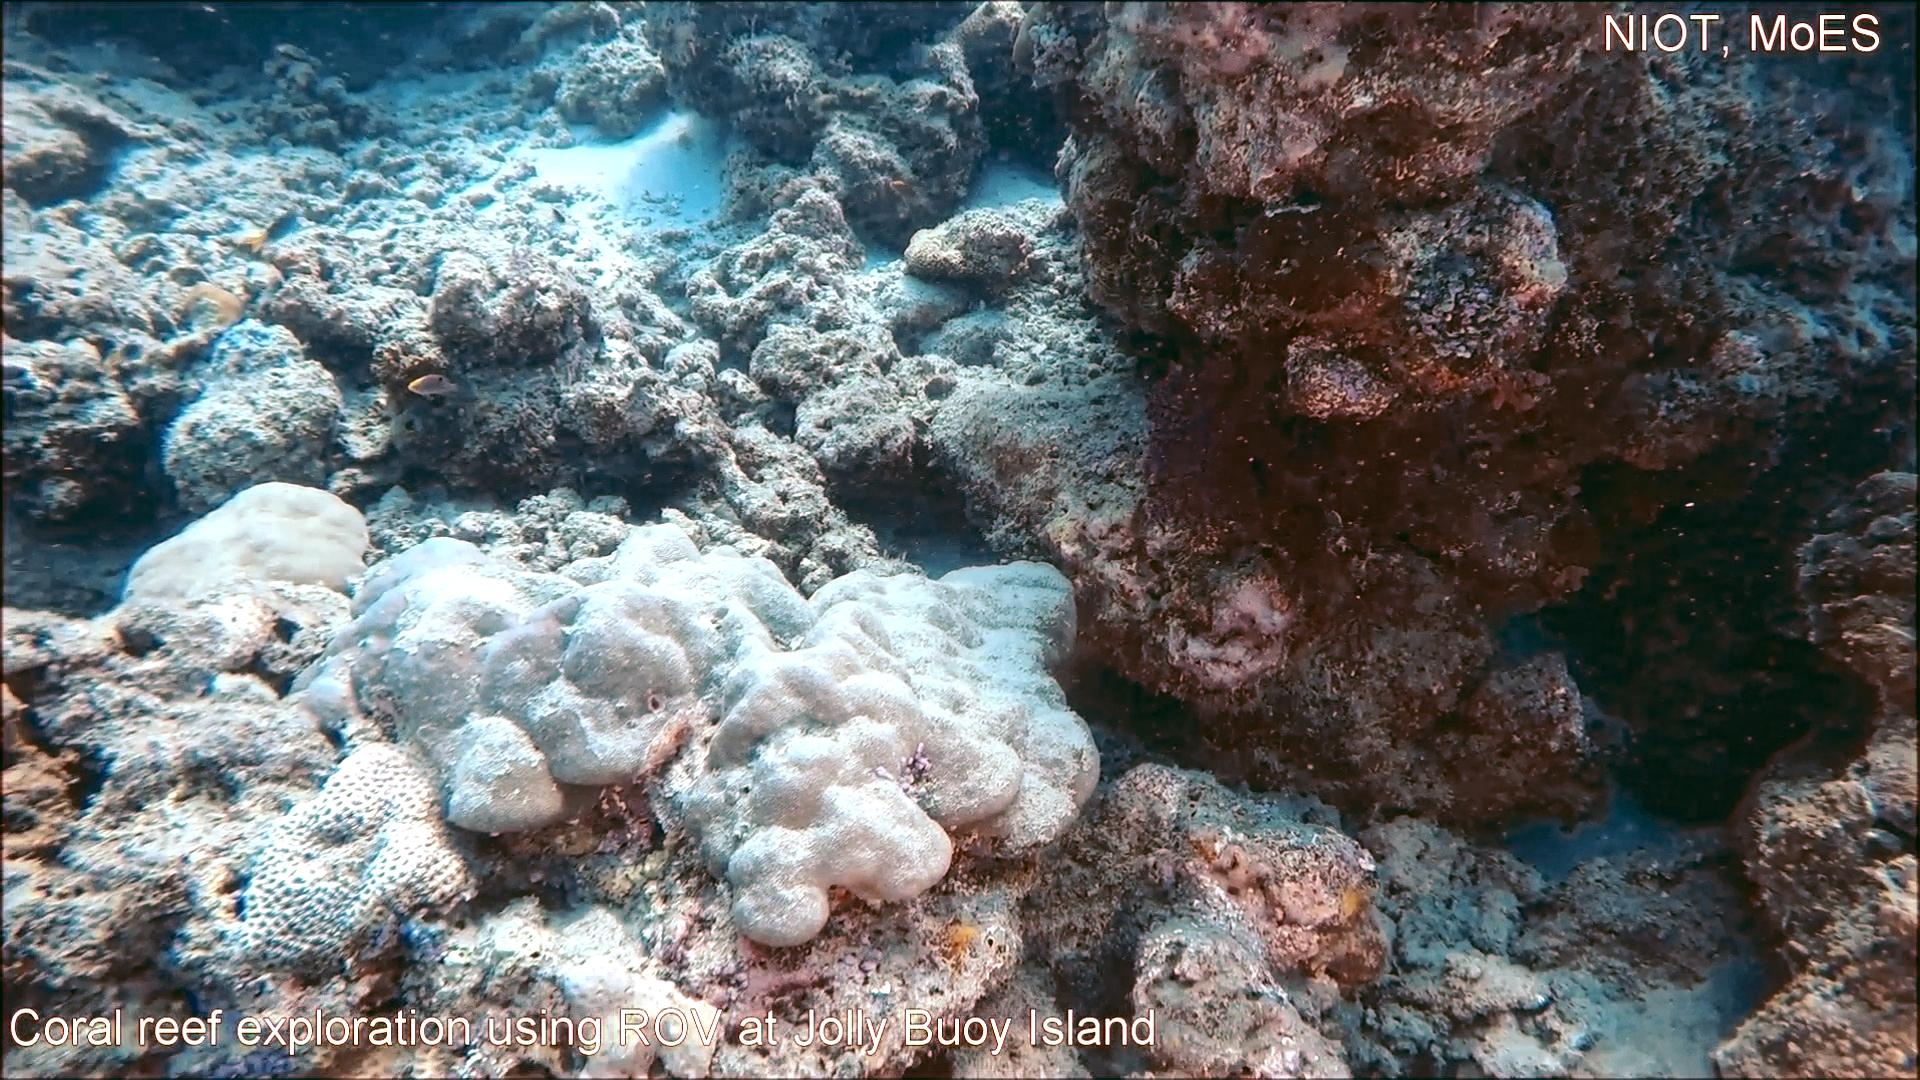Goniastrea-Goniastrea pectinata: (237, 732, 481, 992)
Gorgonian-Purple Plexaura: (1134, 322, 1433, 673)
Porites-Porites pukoensis: (562, 521, 1104, 951)
